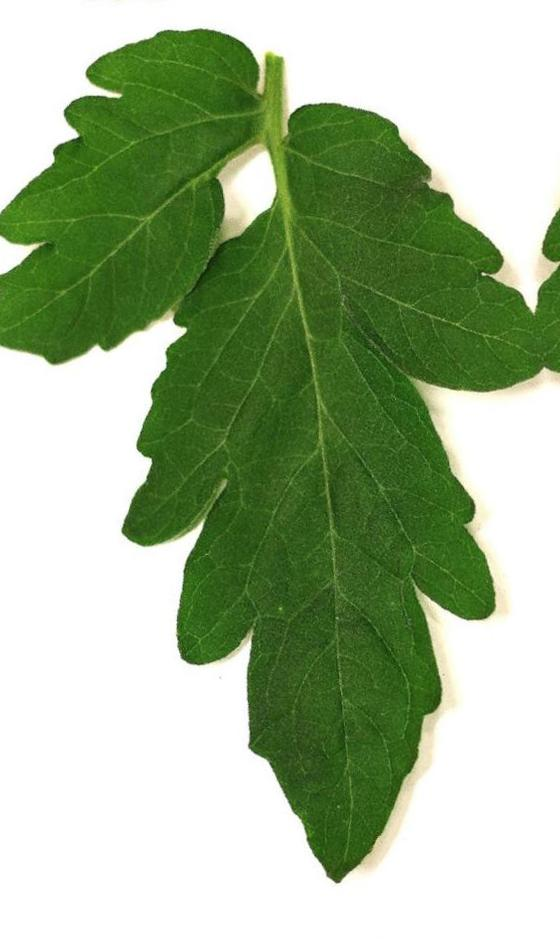Tomato leaf: (87, 65, 560, 928), (0, 27, 305, 393)
